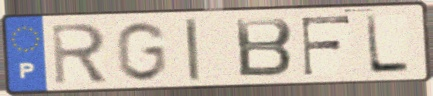B: (232, 16, 295, 80)
F: (298, 13, 353, 78)
G: (113, 20, 169, 84)
I: (182, 16, 203, 84)
L: (362, 13, 413, 75)
R: (48, 21, 110, 87)
